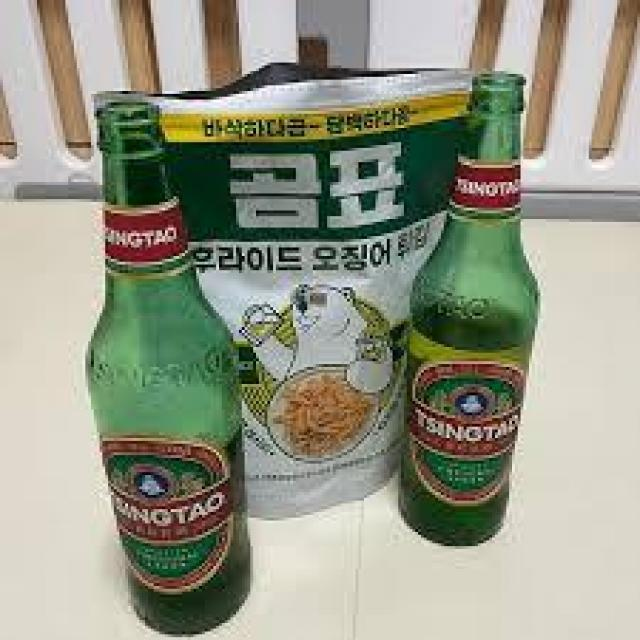beer-bottle: (80, 92, 258, 638), (384, 62, 546, 554)
